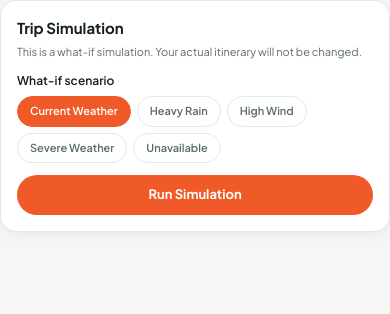
Test case: SimulationCard › shows trip not found message for 404
The image size is (390, 314).
Click the button "Run Simulation". click: [195, 195]
box: [17,175,373,214]
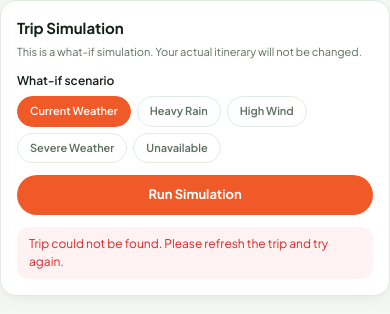
Check: the text "Trip could not be found. Please refresh the trip and try again." is shown, box [17,226,373,278]
